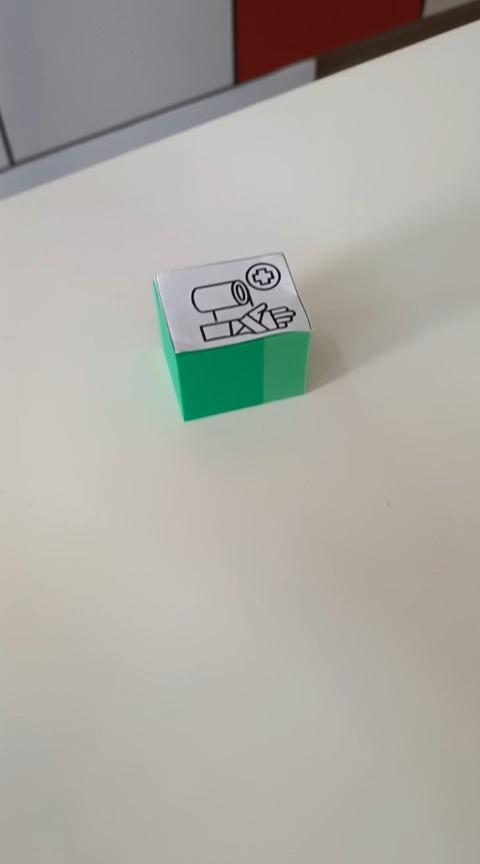Bandages: (151, 250, 313, 422)
